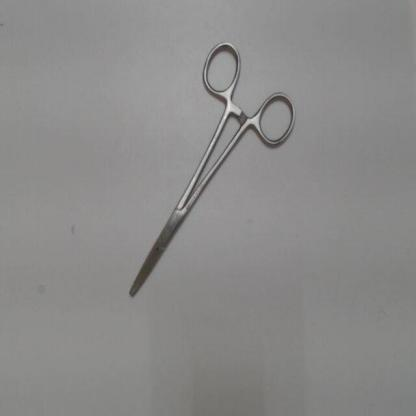Mayo Needle Holder: (118, 32, 302, 311)
